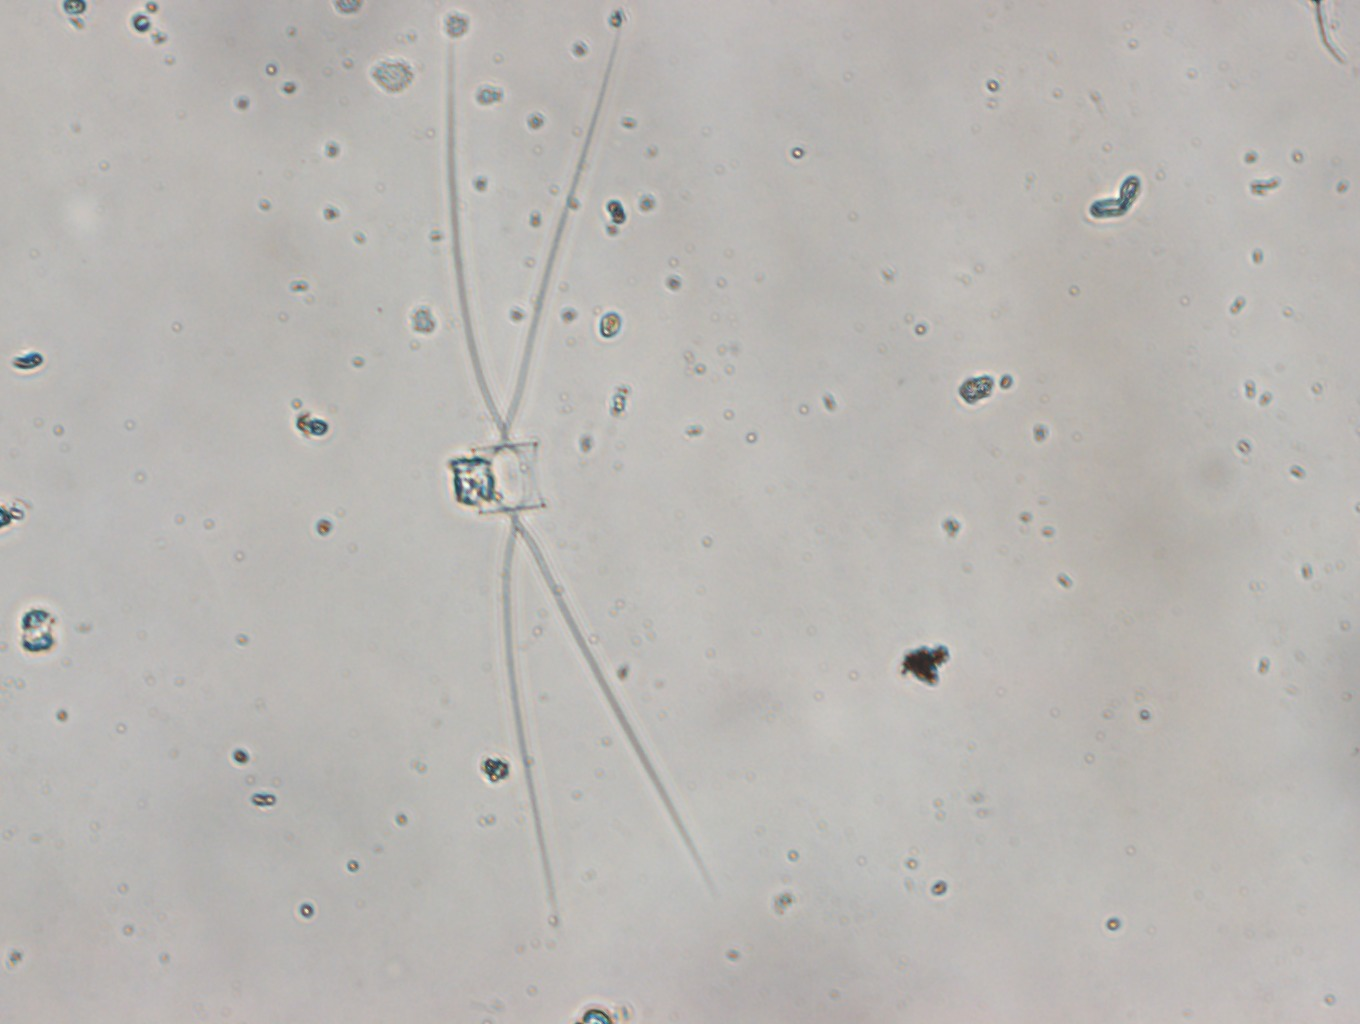chaetoceros: (431, 12, 712, 936)
